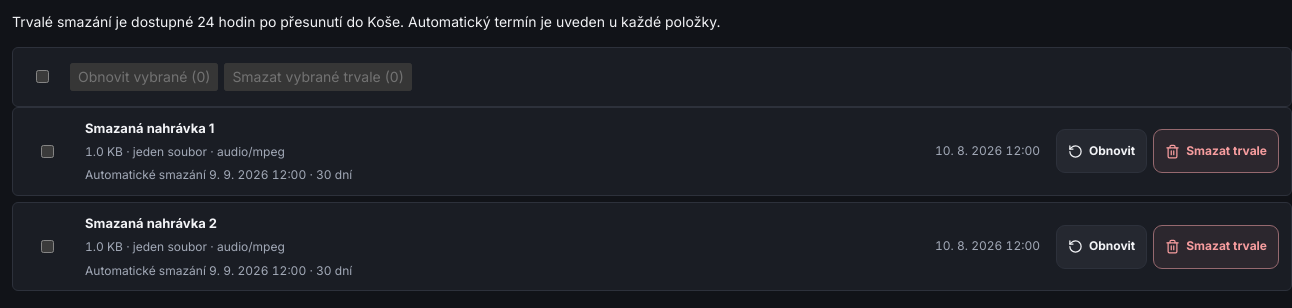
Test: trash recording actions › selects rows and preserves only failed ids after a partial bulk restore
Expected: the checkbox named "Vybrat všechny nahrávky v Koši" is shown, [36,70,49,83]
Click the checkbox named "Vybrat Smazaná nahrávka 1": (48, 151) [41,145,54,158]
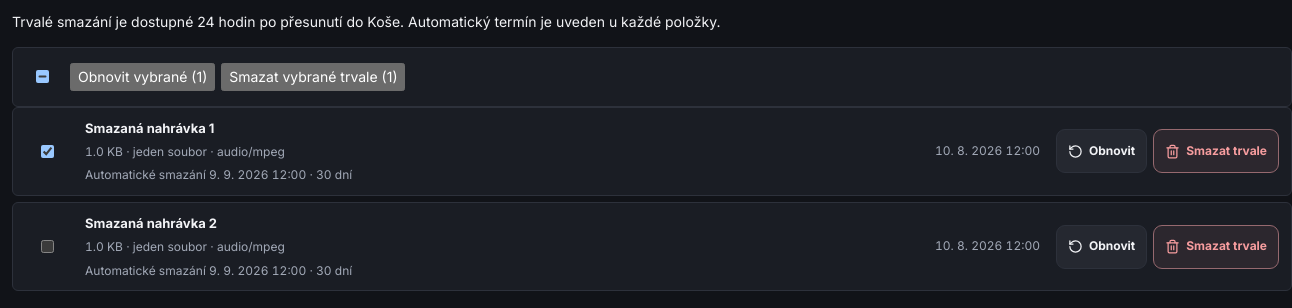
Click the checkbox named "Vybrat Smazaná nahrávka 2": (48, 247) [41,240,54,253]
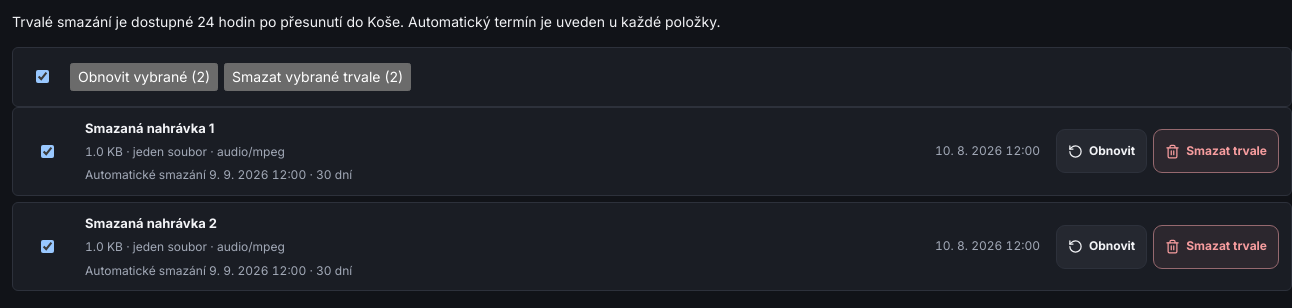
Click the button "Obnovit vybrané (2)": (144, 77) [70,63,218,90]
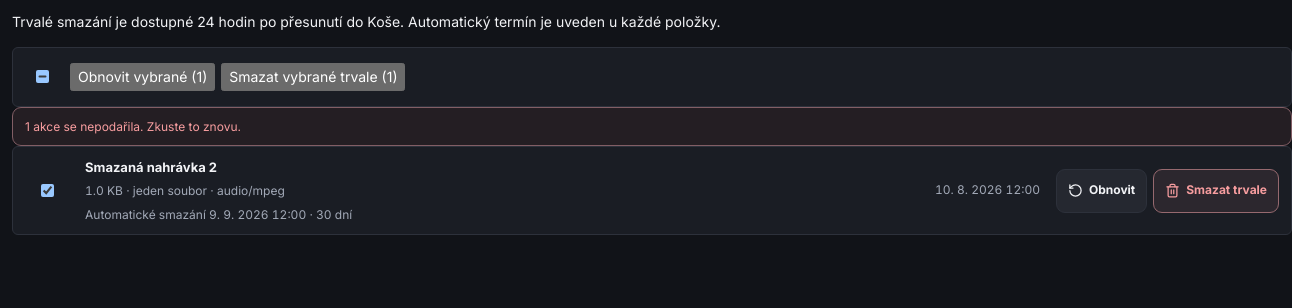
Expected: the message "1 akce se nepodařila. Zkuste to znovu." is shown, [12,107,1291,146]
